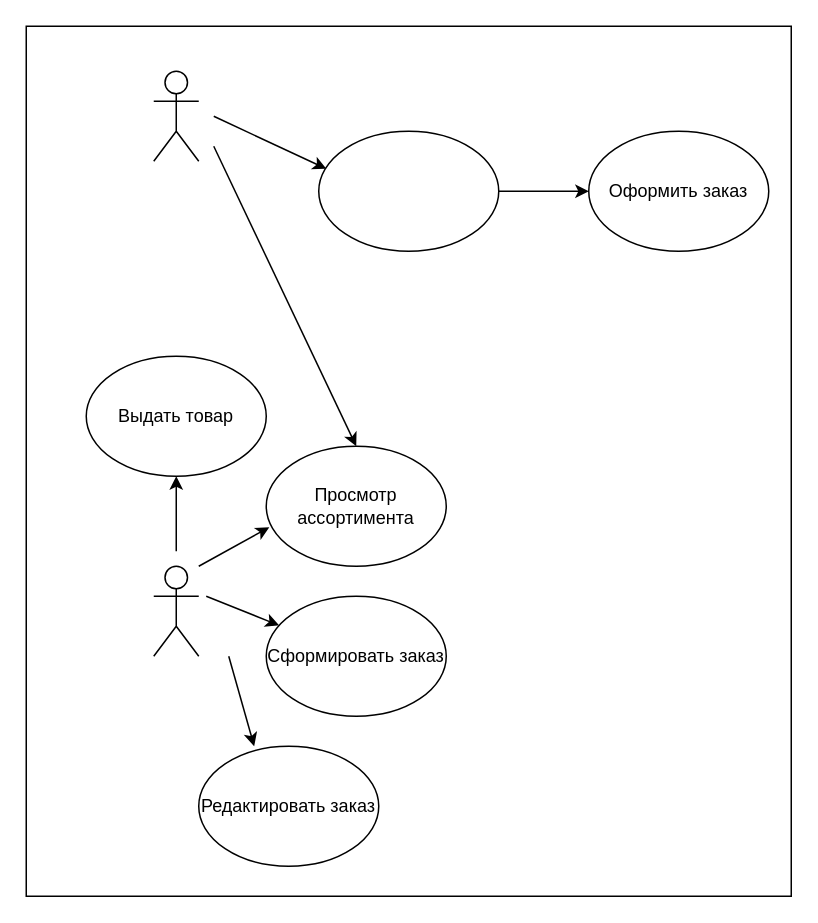
Image size: 818x923. Some labels were removed from this diagram. Here are the shapes that lost their labels. From the top down, the box of each, then its label:
(152, 70, 199, 161): Покупатель
(317, 130, 499, 251): Пройти авторизацию
(152, 565, 199, 656): Сотрудник
